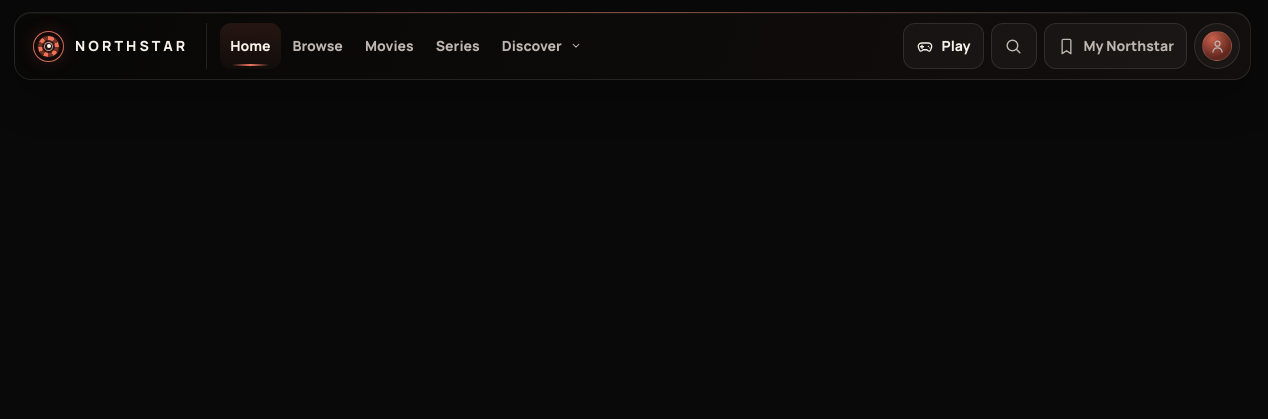
HeaderNavigation › uses the published brand across its visible labels and accessible names
Expected: the link with aria-label "Northstar Pictures home" reads "NORTHSTAR", [33,23,207,69]
What coordinates should you click on to do the following:
click the button "My Northstar"
I would click on:
 (1115, 46)
Its box is [1044,23,1187,69].
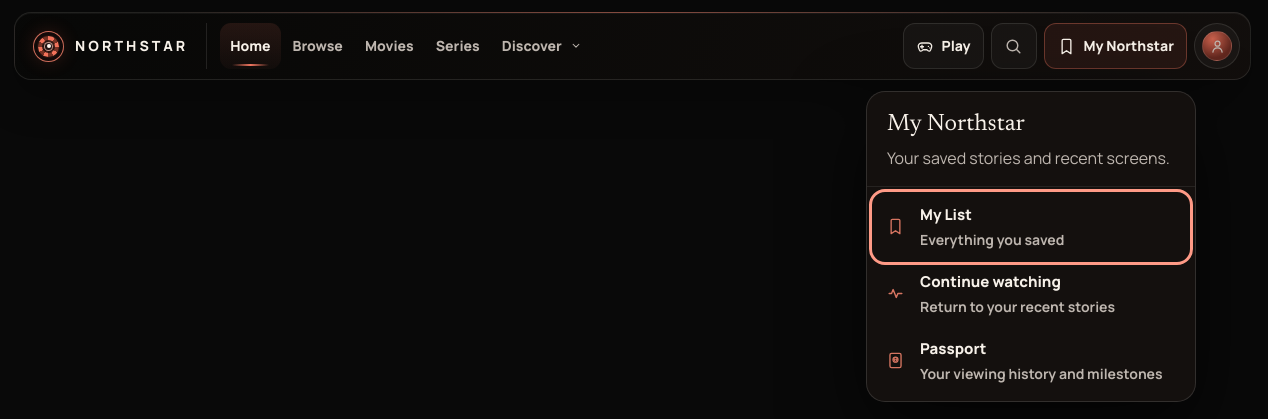
Expected: the heading "My Northstar" is shown, [887,113,1025,136]
Expected: the navigation bar named "My Northstar" is shown, [886,204,1162,383]
